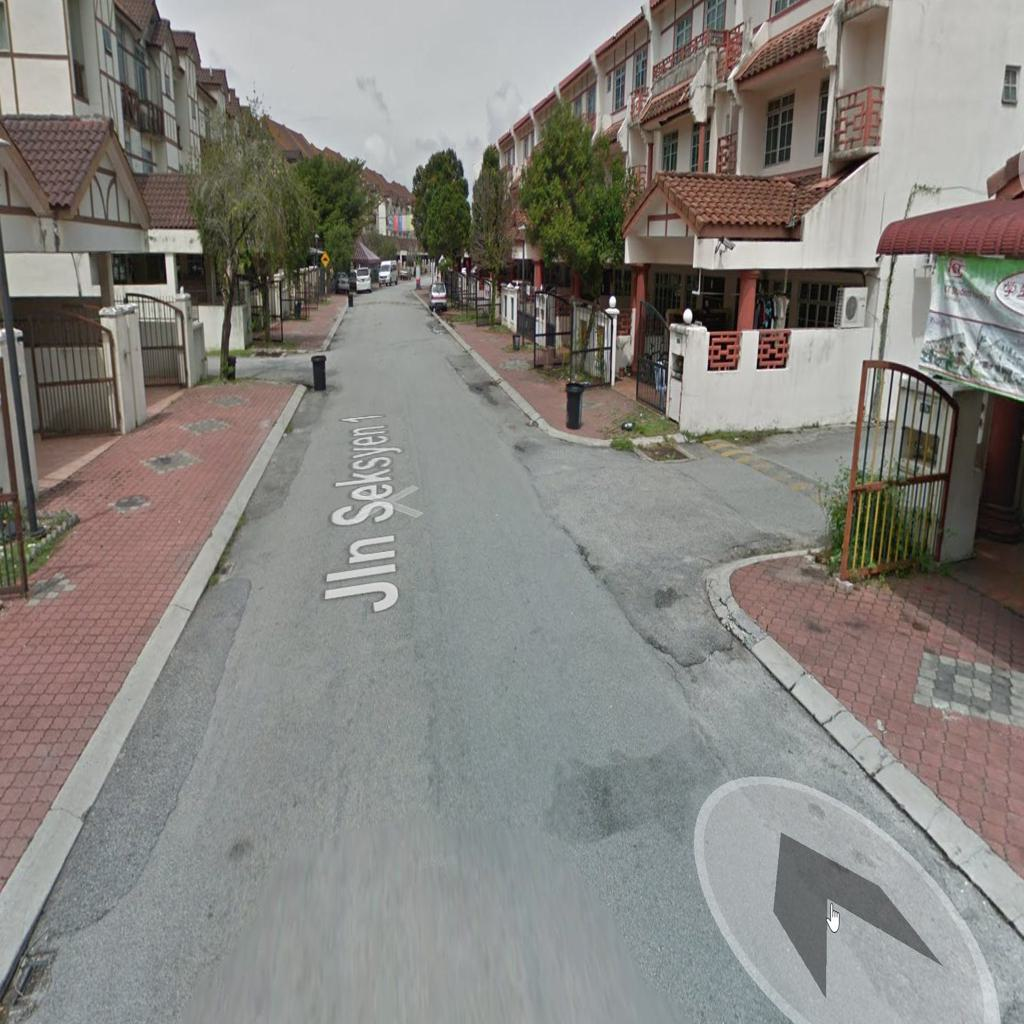Junction: (525, 379, 873, 622), (194, 315, 351, 419)
